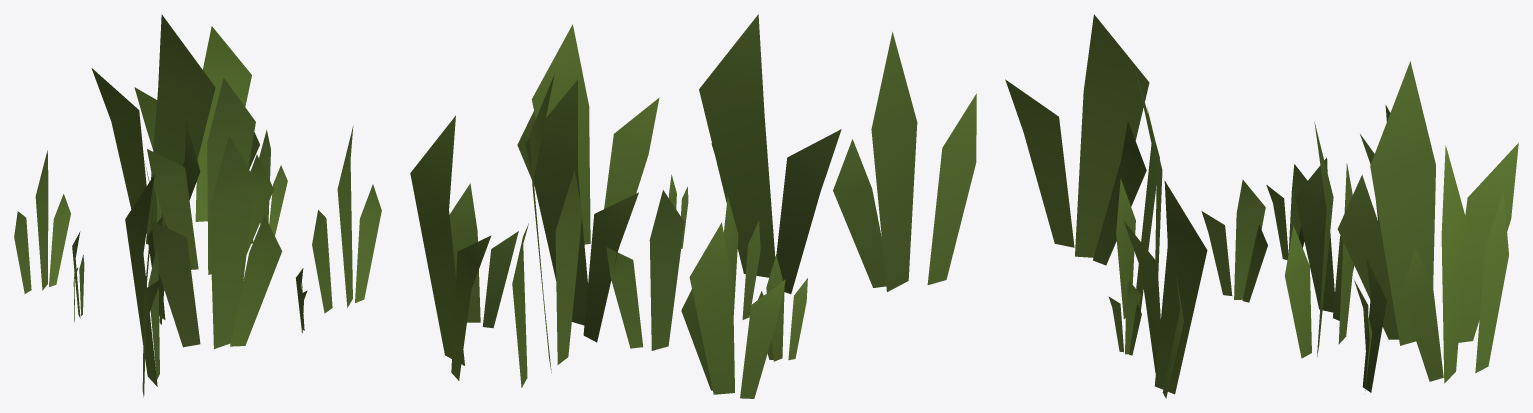
File: grass.glb
3 views of the same model, side by side, from view 1: azimuth 30°, elevation 25°; view 2: azimuth 150°, elevation 25°; view 3: azimuth 270°, elevation 25° (orthographic). The views are drawn at different scales.
Parts seen in each view (by area): view 1: mff_grass_patch_0; view 2: mff_grass_patch_0; view 3: mff_grass_patch_0.
Part boxes in pixels (box(x1,y1,x2,y2)): mff_grass_patch_0: box(14, 14, 381, 397); mff_grass_patch_0: box(410, 14, 976, 398); mff_grass_patch_0: box(1005, 14, 1518, 398).
Bounding box in the file's own units: 1.64 × 1.22 × 2.02.
1 material, 1 textured.
